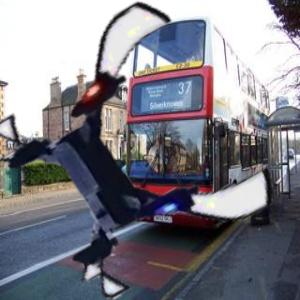drone: (5, 24, 257, 276)
